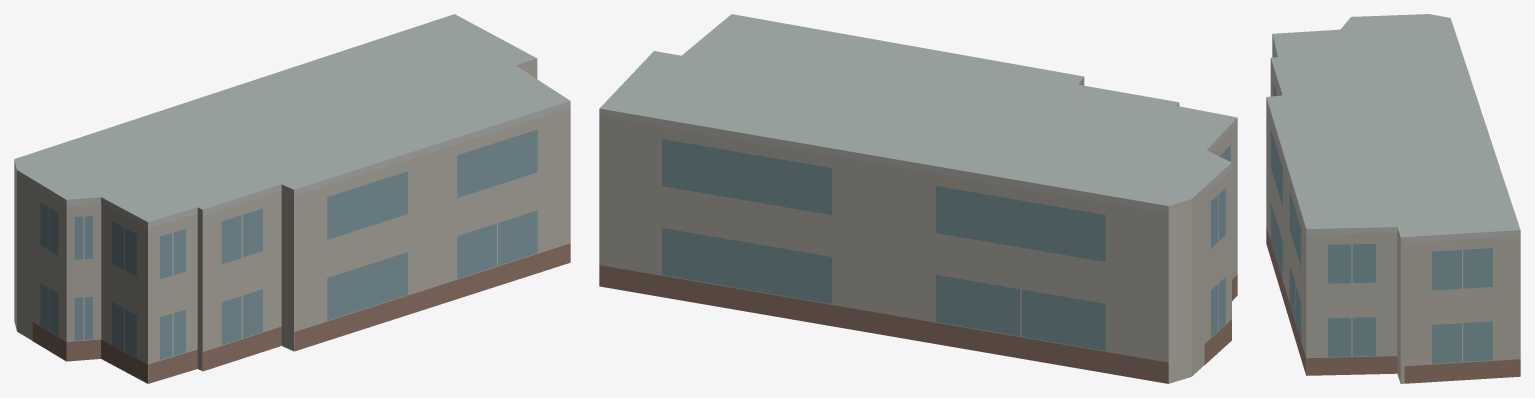
The model's file is survey-upis-32493923.glb.
3 renders of one model, left to right at view 1: azimuth 30°, elevation 25°; view 2: azimuth 150°, elevation 25°; view 3: azimuth 270°, elevation 25°, orthographic. The views are drawn at different scales.
Visible parts, largest first — view 1: survey-upis-32493923.tmp; view 2: survey-upis-32493923.tmp; view 3: survey-upis-32493923.tmp.
Boxes of the visible parts, x1,y1,x2,y2 form: survey-upis-32493923.tmp: (14, 14, 570, 383); survey-upis-32493923.tmp: (599, 14, 1237, 383); survey-upis-32493923.tmp: (1266, 14, 1520, 383).
Size of the model in its own units: 19.28 by 5.9 by 9.28.
